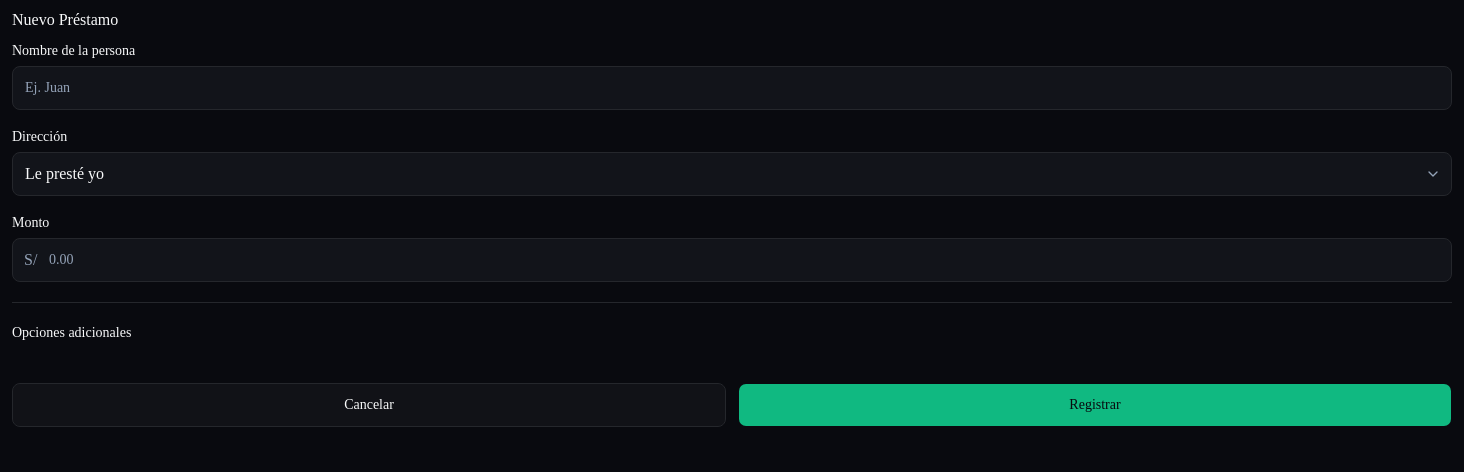
Scenario: DebtForm › shows an error and does not save when the amount is not valid money (1.2.3)
Type "Juan" into the field labelled "Nombre de la persona" at x=732, y=88, box [12,66,1452,110]
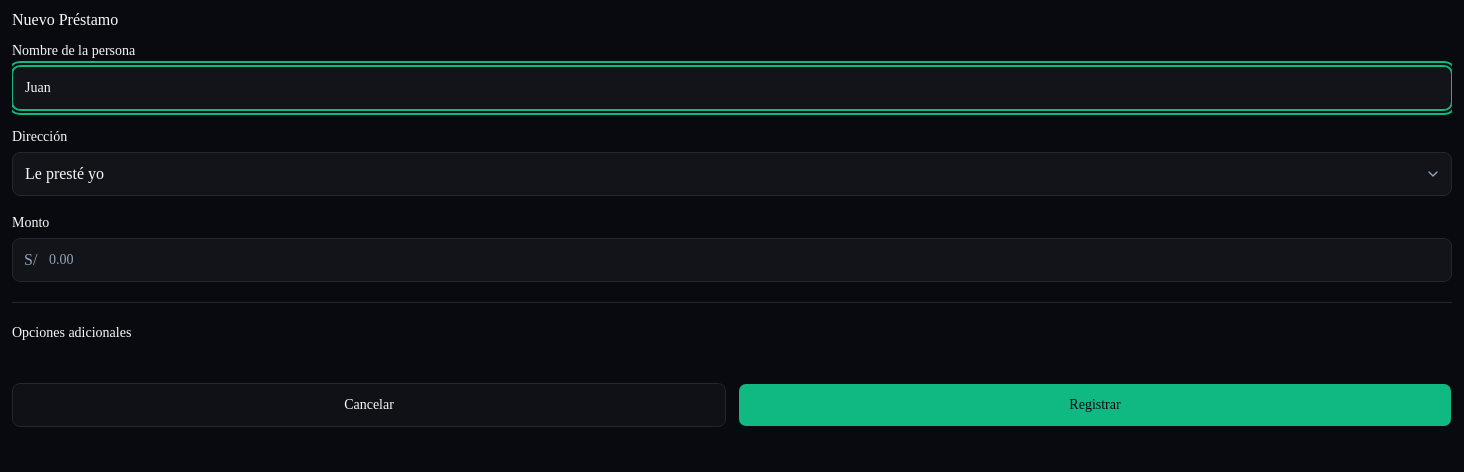
Type "1.2.3" into the field labelled "Monto" at x=732, y=260, box [12,238,1452,282]
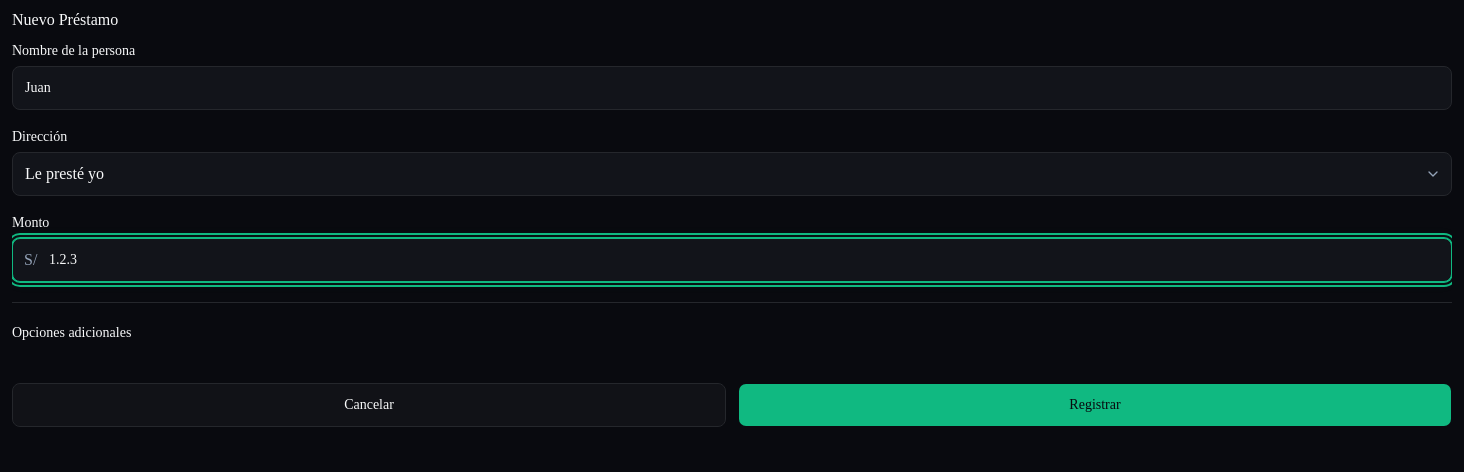
Submit the form with test id "debt-form"
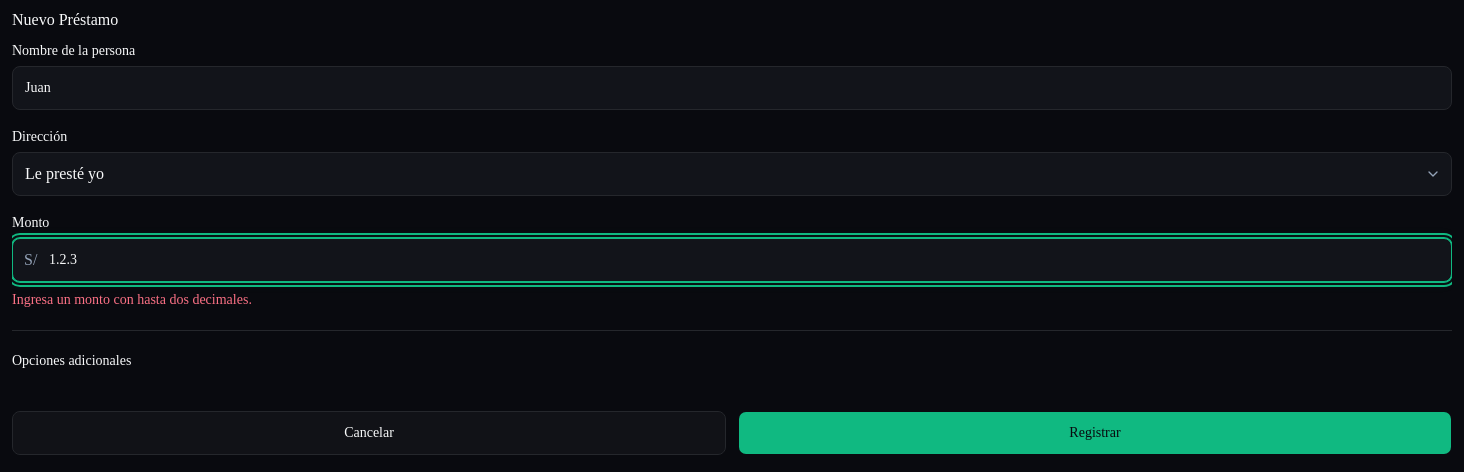
Now the text "Ingresa un monto con hasta dos decimales." is shown, box [12,292,252,307]
